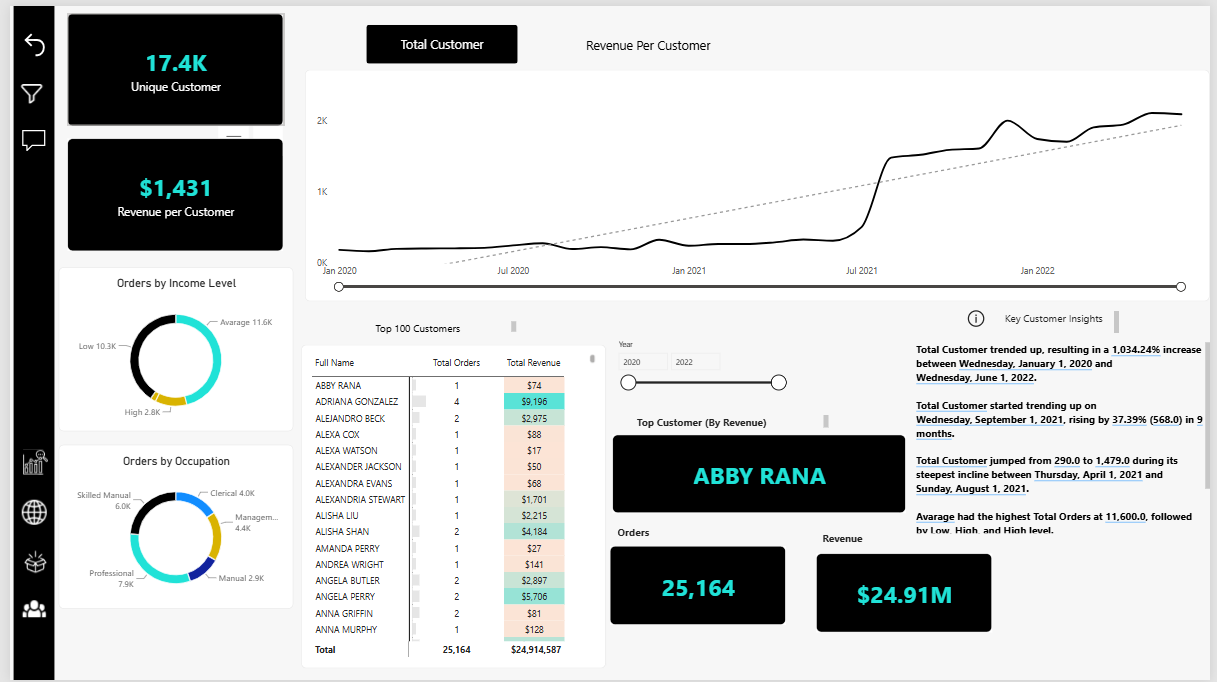

What the dashboard file says about the page in this screenshot:
{"tool":"powerbi","page":{"name":"Customer View","canvas":[1920,1080],"ordinal":18},"visuals":[{"type":"group","id":"g1","title":"Nav Bar","box":[2,0,71,1080],"z":0},{"type":"shape","title":"Nav Bar","box":[5,0,65,1080],"z":0,"group":"g1"},{"type":"textbox","title":"Top Customer by Revenue Text ","box":[1000.8,651.4,311.4,22.9],"z":0,"group":"g4"},{"type":"cardVisual","title":"Orders per top Customer","fields":{"Data":["Measure List.Total Orders"]},"box":[960,864.2,281.7,126.7],"z":0,"group":"g3"},{"type":"cardVisual","title":"Revenue  per top Customer","fields":{"Data":["Measure List.Total Revenue"]},"box":[1290,875.2,281.7,126.7],"z":0,"group":"g2"},{"type":"cardVisual","title":"Total Customer ","fields":{"Data":["Measure List.Total Customer"]},"box":[92.5,12.5,345,180],"z":1000},{"type":"actionButton","title":"Reset Icon","box":[5,38.9,67.5,45],"z":1000,"group":"g1"},{"type":"cardVisual","title":"Top Customer","fields":{"Data":["Min(Customer Lookup.Full Name)"]},"box":[964.7,685.1,469.3,125.9],"z":1000,"group":"g4"},{"type":"textbox","title":"Orders By top Customer Text","box":[970.6,828.6,248.3,28.3],"z":1000,"group":"g3"},{"type":"textbox","title":"Revenue Per Top  Customer Text","box":[1298.1,837.1,248.3,28.3],"z":1000,"group":"g2"},{"type":"cardVisual","title":"Revenue per Customer","fields":{"Data":["Measure List.Revenue per Customer"]},"box":[92.5,212.5,345,180],"z":2000},{"type":"actionButton","title":"Map_icon","box":[5,782,66,56],"z":2000,"group":"g1"},{"type":"lineChart","title":"Total Customer Chart","fields":{"Category":["Calendar Lookup.Start of month"],"Y":["Measure List.Total Customer"]},"box":[472.5,102.5,1447.5,370],"z":3000},{"type":"actionButton","title":"insights_Icon","box":[7,702,66,56],"z":3000,"group":"g1"},{"type":"actionButton","title":"Product Icon","box":[7,862,66,54],"z":4000,"group":"g1"},{"type":"actionButton","title":"Unselected Total Customer ","box":[547.5,22.5,242.5,62.5],"z":5000},{"type":"actionButton","title":" Customer Icon","box":[5,938,66,52],"z":5000,"group":"g1"},{"type":"actionButton","title":"Selected Total Customer","box":[570,30,242.5,62.5],"z":6000},{"type":"actionButton","title":"Q&A Icon","box":[9.7,191.4,56,39.7],"z":6000,"group":"g1"},{"type":"actionButton","title":"Unselected reveune Per Customer ","box":[899.5,32.5,242.5,62.5],"z":7000},{"type":"actionButton","title":" Filter Icon","box":[2,116,66,40],"z":7000,"group":"g1"},{"type":"pivotTable","title":"Top 100 Customer Matrix","fields":{"Rows":["Customer Lookup.Full Name"],"Values":["Measure List.Total Orders","Measure List.Total Revenue"]},"box":[465,542.5,487.5,517.5],"z":9000},{"type":"textbox","title":"Top 100 Customer Text","box":[502.5,502.5,310,22.5],"z":10000},{"type":"group","id":"g2","title":"Revenue Top Customer","box":[1290,837.1,282.9,164.3],"z":11000},{"type":"group","id":"g3","title":"Orders Per Top Customer","box":[960,828.6,281.4,161.4],"z":12000},{"type":"group","id":"g4","title":"Top Customer ","box":[964.7,651.4,470,158.6],"z":13000},{"type":"slicer","fields":{"Values":["Calendar Lookup.Year"]},"box":[966.7,532.9,280,94.3],"z":14000},{"type":"donutChart","title":"Orders by Income Level ","fields":{"Category":["Customer Lookup.Income Level"],"Y":["Measure List.Total Orders"]},"box":[78.6,417.1,375,262.5],"z":15000},{"type":"donutChart","title":"Orders by Occupation","fields":{"Category":["Customer Lookup.Occupation"],"Y":["Measure List.Total Orders"]},"box":[78.6,701.4,375,262.5],"z":16000},{"type":"textbox","box":[1450,537.1,470,305.7],"z":18000},{"type":"actionButton","box":[1495,480,100,40],"z":19000},{"type":"textbox","box":[1572.5,487.5,202.5,37.5],"z":20000}]}

Visuals, with their boxes on the page's 1920x1080 design canvas (x1, y1, x2, y2). These are canvas units, not pixel positions in the 1217x682 screenshot, which may show the page scaled, cropped or inside an application window:
"Nav Bar" group: <region>2, 0, 73, 1080</region>
"Nav Bar" shape: <region>5, 0, 70, 1080</region>
"Top Customer by Revenue Text " textbox: <region>1001, 651, 1312, 674</region>
"Orders per top Customer" cardVisual: <region>960, 864, 1242, 991</region>
"Revenue  per top Customer" cardVisual: <region>1290, 875, 1572, 1002</region>
"Total Customer " cardVisual: <region>92, 12, 438, 192</region>
"Reset Icon" actionButton: <region>5, 39, 72, 84</region>
"Top Customer" cardVisual: <region>965, 685, 1434, 811</region>
"Orders By top Customer Text" textbox: <region>971, 829, 1219, 857</region>
"Revenue Per Top  Customer Text" textbox: <region>1298, 837, 1546, 865</region>
"Revenue per Customer" cardVisual: <region>92, 212, 438, 392</region>
"Map_icon" actionButton: <region>5, 782, 71, 838</region>
"Total Customer Chart" lineChart: <region>472, 102, 1920, 472</region>
"insights_Icon" actionButton: <region>7, 702, 73, 758</region>
"Product Icon" actionButton: <region>7, 862, 73, 916</region>
"Unselected Total Customer " actionButton: <region>548, 22, 790, 85</region>
" Customer Icon" actionButton: <region>5, 938, 71, 990</region>
"Selected Total Customer" actionButton: <region>570, 30, 812, 92</region>
"Q&A Icon" actionButton: <region>10, 191, 66, 231</region>
"Unselected reveune Per Customer " actionButton: <region>900, 32, 1142, 95</region>
" Filter Icon" actionButton: <region>2, 116, 68, 156</region>
"Top 100 Customer Matrix" pivotTable: <region>465, 542, 952, 1060</region>
"Top 100 Customer Text" textbox: <region>502, 502, 812, 525</region>
"Revenue Top Customer" group: <region>1290, 837, 1573, 1001</region>
"Orders Per Top Customer" group: <region>960, 829, 1241, 990</region>
"Top Customer " group: <region>965, 651, 1435, 810</region>
slicer - Calendar Lookup.Year: <region>967, 533, 1247, 627</region>
"Orders by Income Level " donutChart: <region>79, 417, 454, 680</region>
"Orders by Occupation" donutChart: <region>79, 701, 454, 964</region>
textbox: <region>1450, 537, 1920, 843</region>
actionButton: <region>1495, 480, 1595, 520</region>
textbox: <region>1572, 488, 1775, 525</region>
